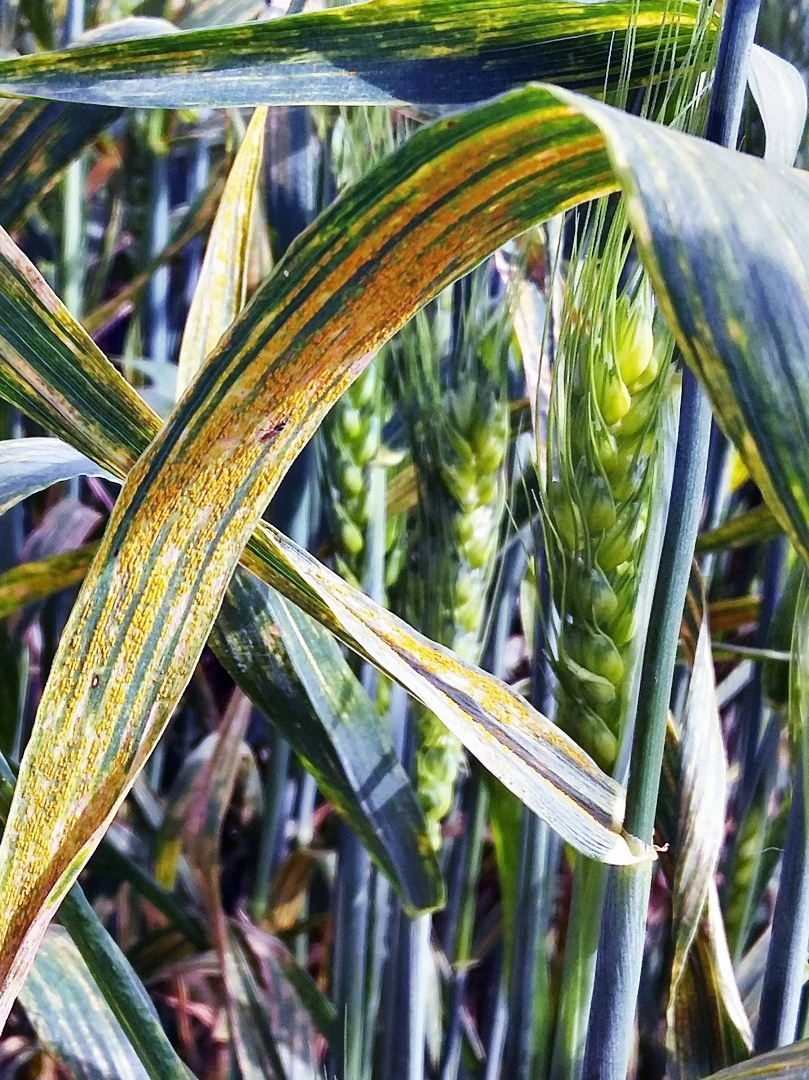Leaf Rust: (32, 168, 502, 863)
